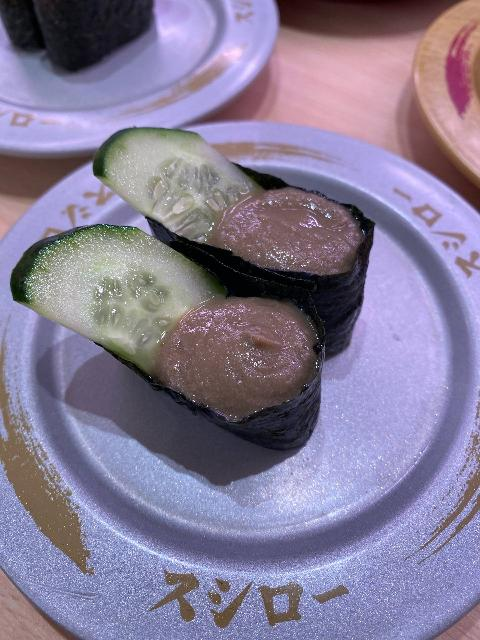jangold: (404, 7, 480, 163)
janwhite: (34, 137, 478, 625), (0, 0, 267, 120)
